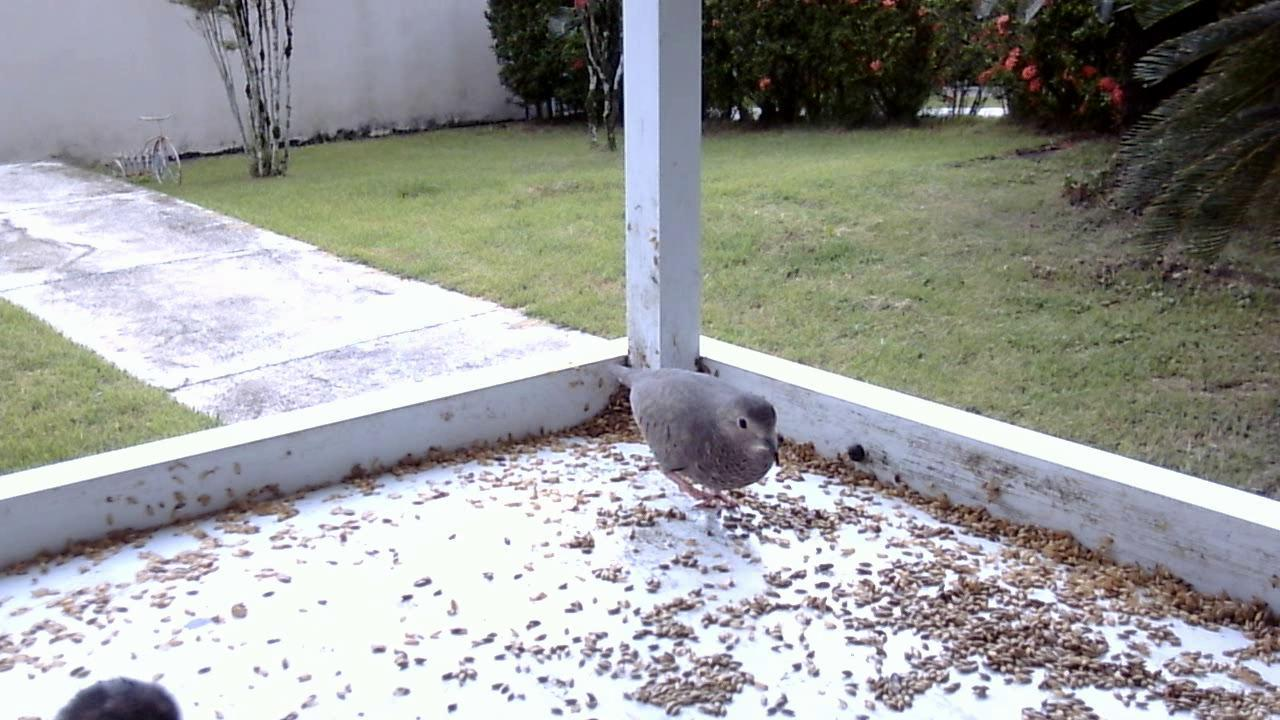rolinha: (614, 363, 781, 518)
